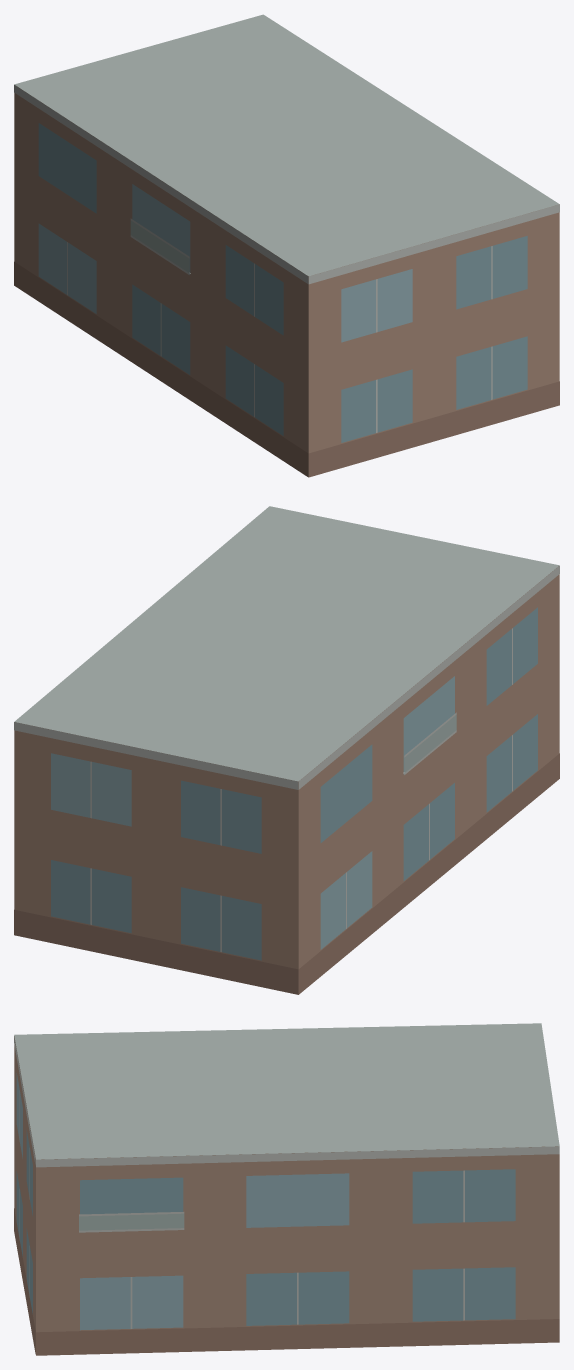
Rendered from survey-upis-32682256.glb.
3 views of the same model, one above another, from view 1: azimuth 30°, elevation 25°; view 2: azimuth 150°, elevation 25°; view 3: azimuth 270°, elevation 25° (orthographic). The views are drawn at different scales.
Visible parts, largest first — view 1: survey-upis-32682256.tmp; view 2: survey-upis-32682256.tmp; view 3: survey-upis-32682256.tmp.
Part boxes in pixels (x1,y1,x2,y2): survey-upis-32682256.tmp: (14,14,559,477); survey-upis-32682256.tmp: (14,506,559,994); survey-upis-32682256.tmp: (14,1023,559,1355).
Bounding box in the file's own units: 9.11 × 6.1 × 15.4.
